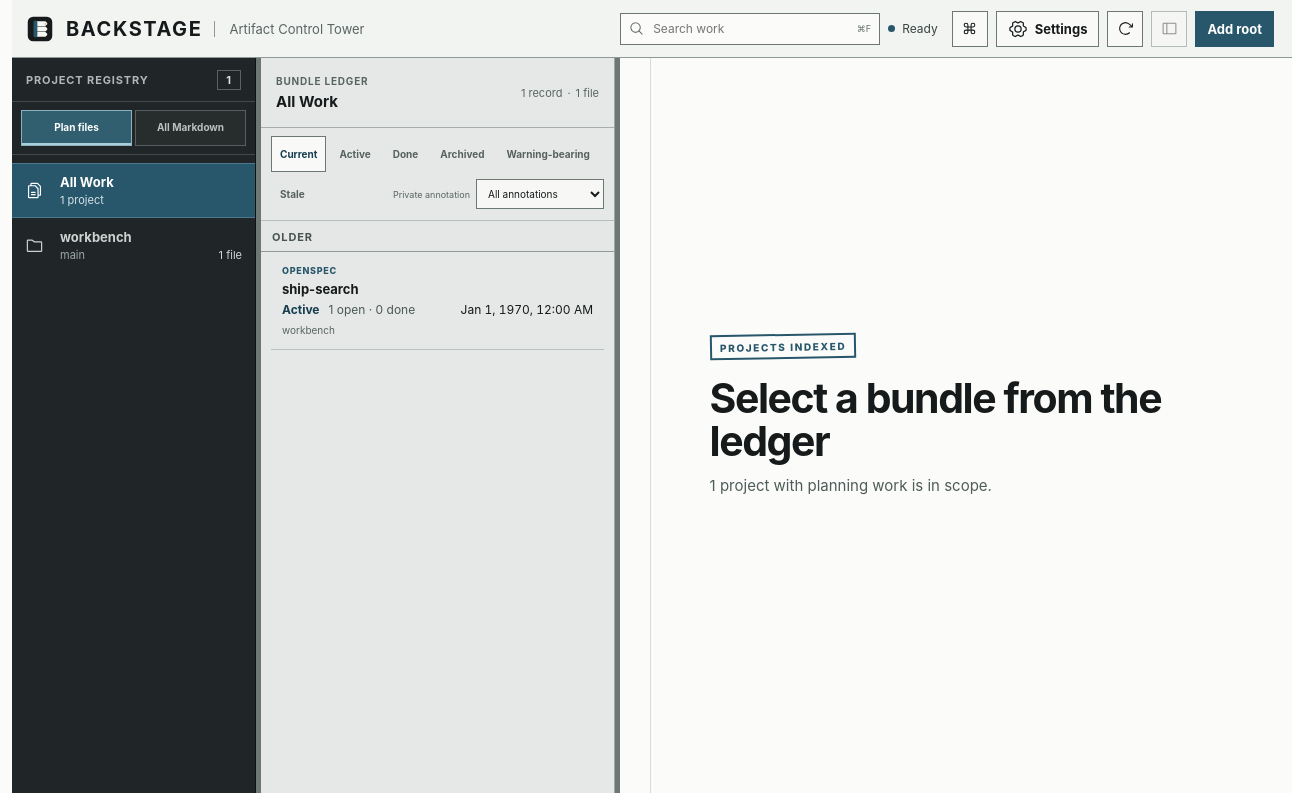
Test: App root discovery › ignores a delayed Markdown response after returning to Plan files
Click the button "All Markdown" at [190, 128], box [135,110,246,146]
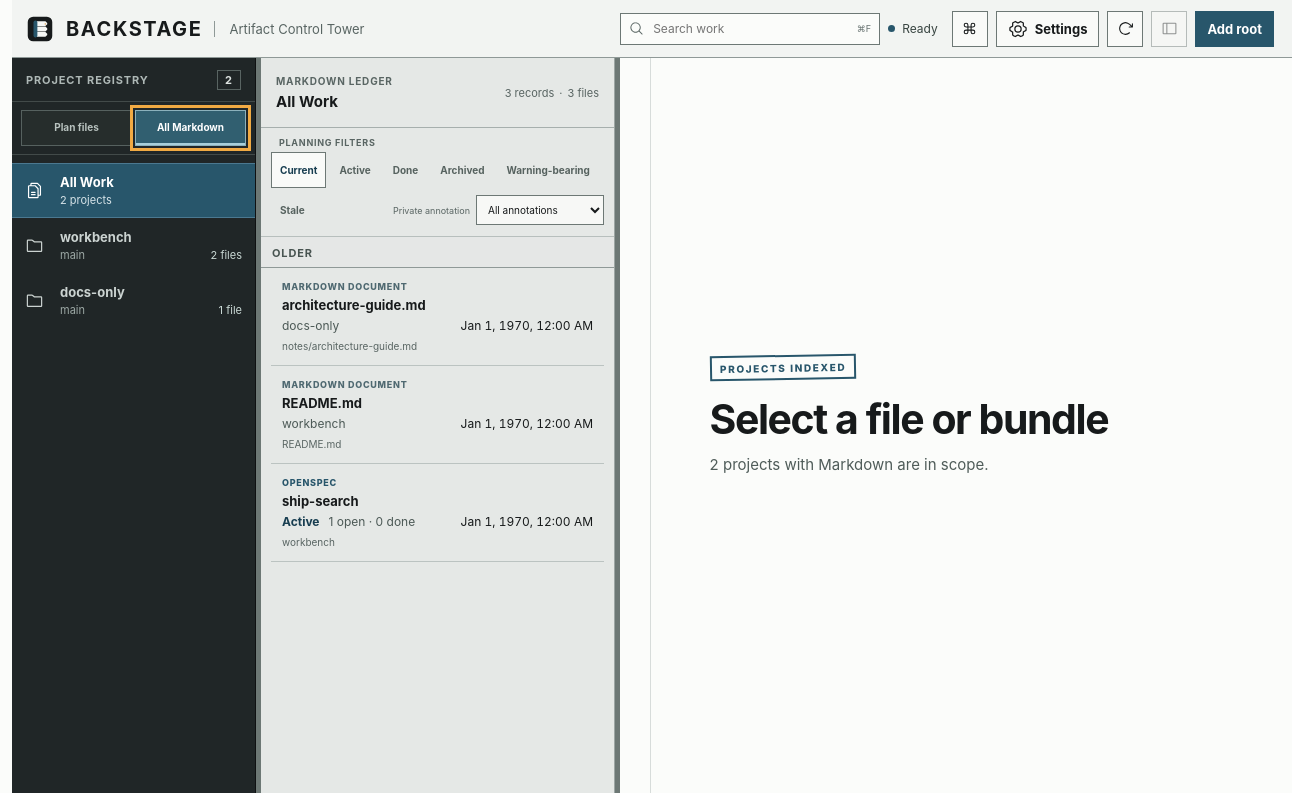
Click the button "README.md" at [345, 384], box [271,366,604,464]
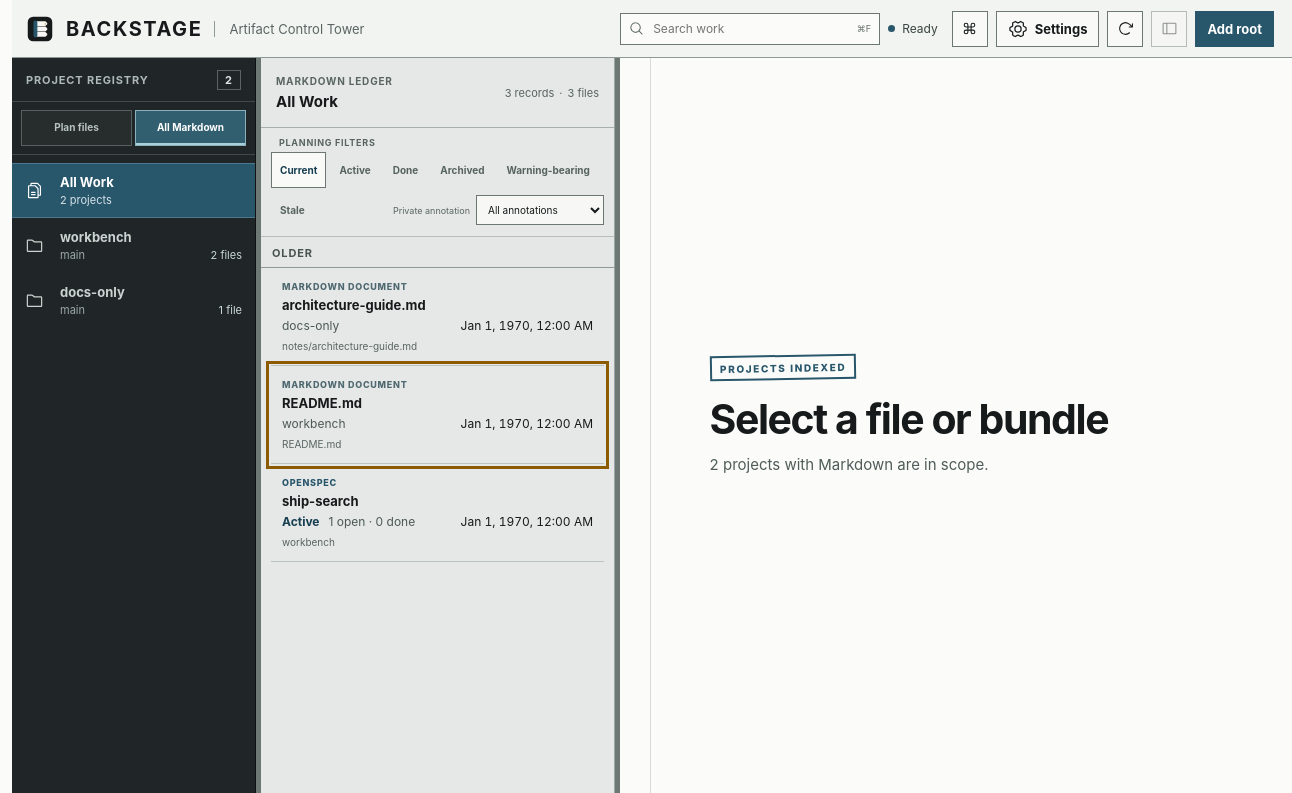
Click the button "Plan files" at [76, 128], box [21,110,132,146]
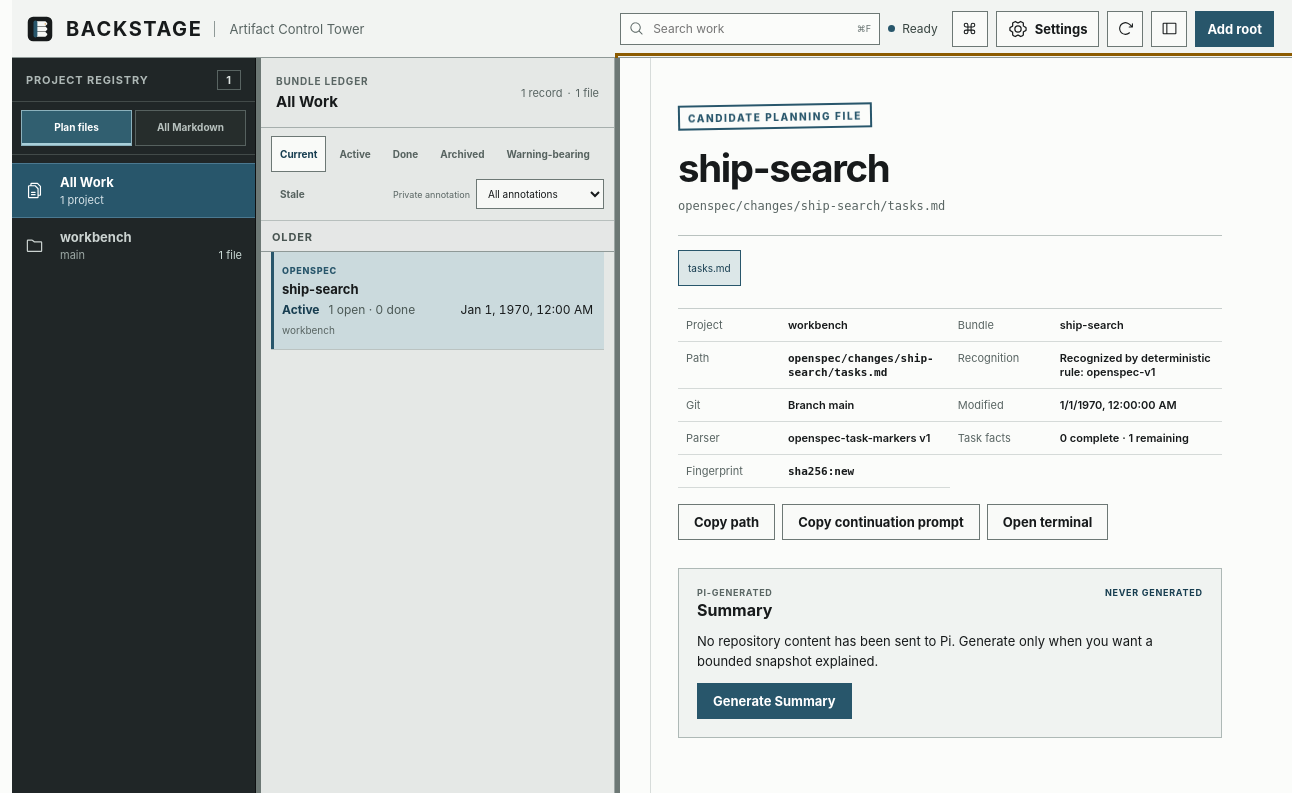
Expected: the heading "ship-search" is shown, [678,145,889,191]
Expected: the button "README.md" is gone
